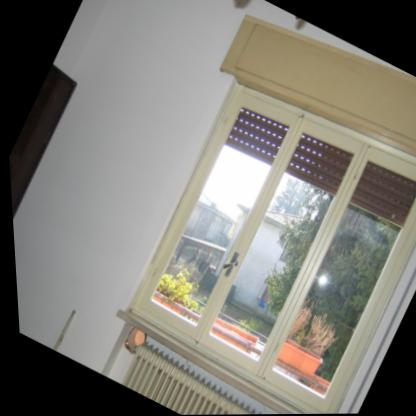Window: (123, 87, 416, 414)
